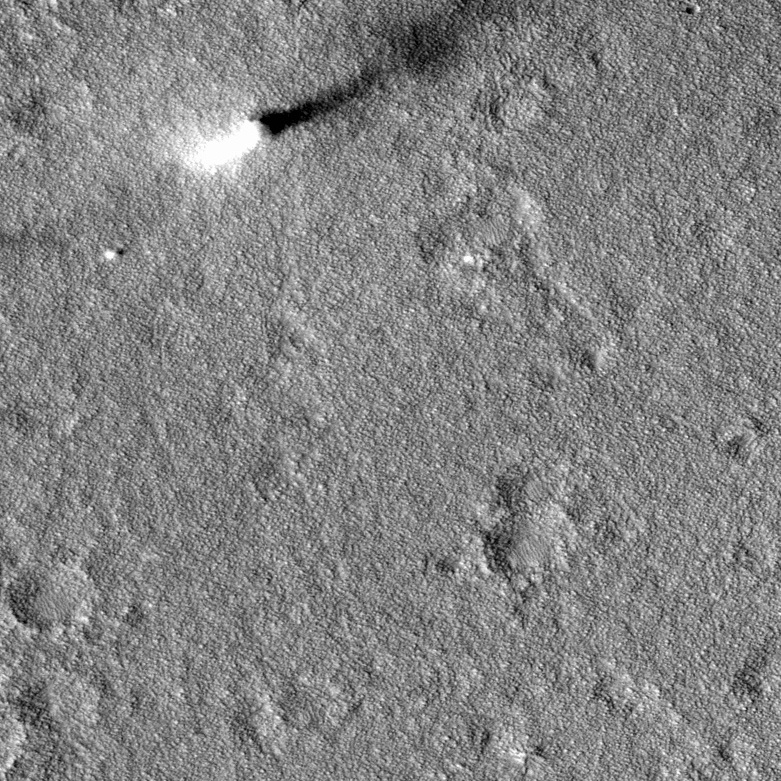dust_devil: (179, 0, 523, 176)
